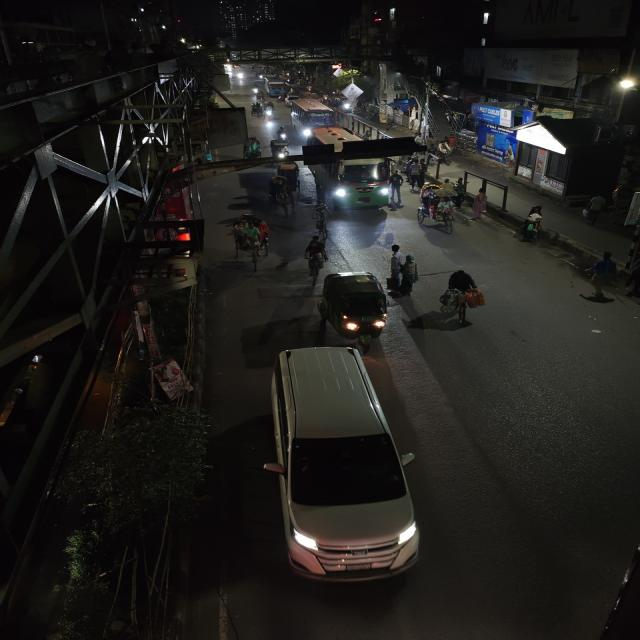bicycle: (434, 267, 493, 323)
bus: (331, 150, 403, 212), (289, 98, 338, 136), (264, 77, 288, 100)
car: (264, 341, 419, 595)
cng: (318, 269, 391, 350)
motorcycle: (275, 124, 291, 142)
pedestrian: (584, 252, 620, 298), (300, 234, 328, 281), (397, 253, 421, 297), (385, 244, 406, 290), (581, 192, 608, 226), (386, 171, 406, 210), (468, 191, 492, 222), (521, 213, 544, 245), (624, 262, 640, 300), (407, 161, 426, 191)
rickshaw: (224, 213, 273, 268), (418, 189, 460, 233), (266, 174, 294, 212), (242, 136, 262, 160), (260, 100, 276, 120)
